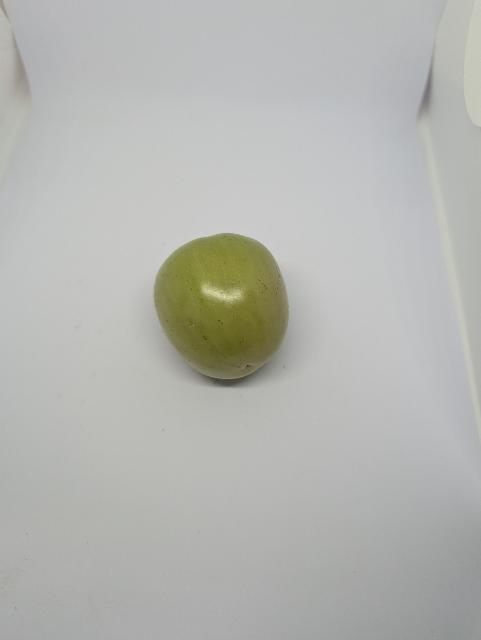green: (137, 226, 296, 391)
